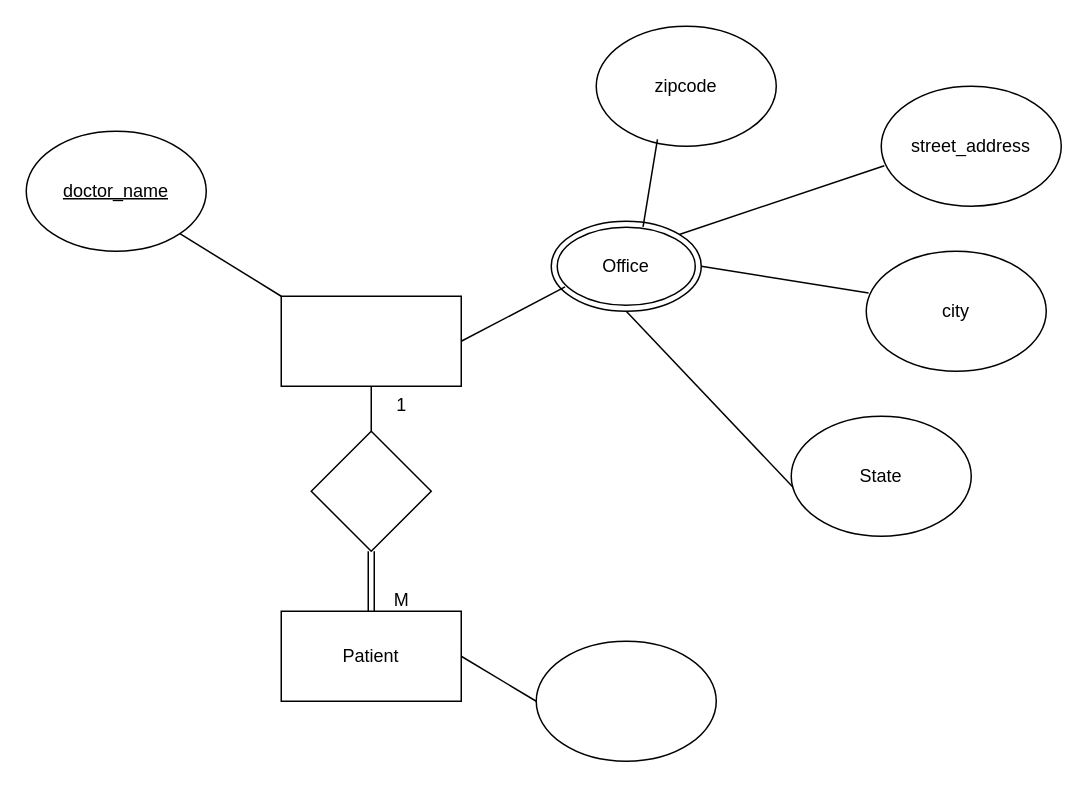
This 1088x788 diagram has some shape labels left out. The box of each missing label's shape, as (x1, y1, x2, y2) in pixels:
Doctor: (280, 295, 461, 386)
has: (310, 430, 431, 551)
patient_name: (535, 640, 716, 761)
